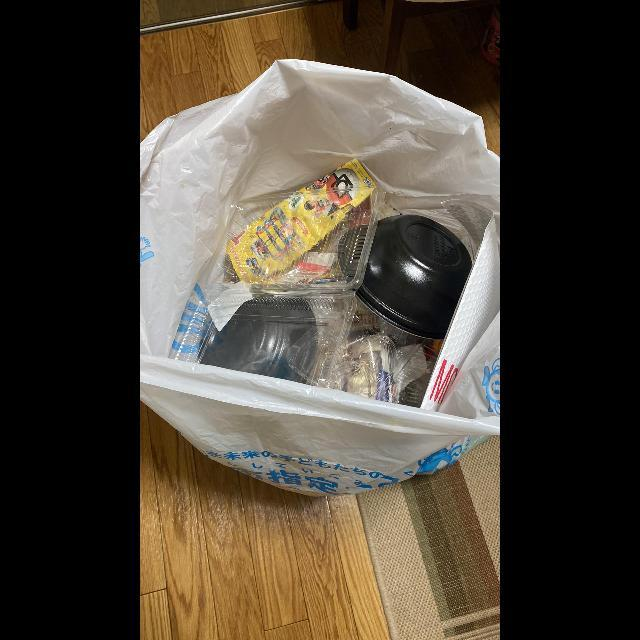paper: (224, 157, 377, 283)
plastic: (168, 183, 387, 388), (287, 300, 443, 408), (355, 215, 472, 340), (337, 225, 368, 280)
